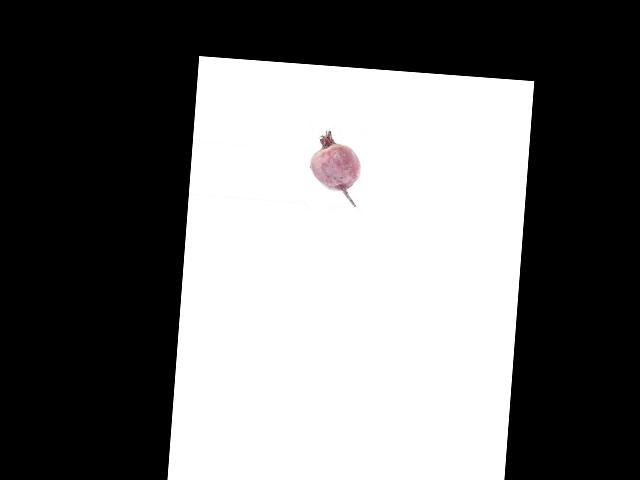beet: (307, 128, 363, 206)
